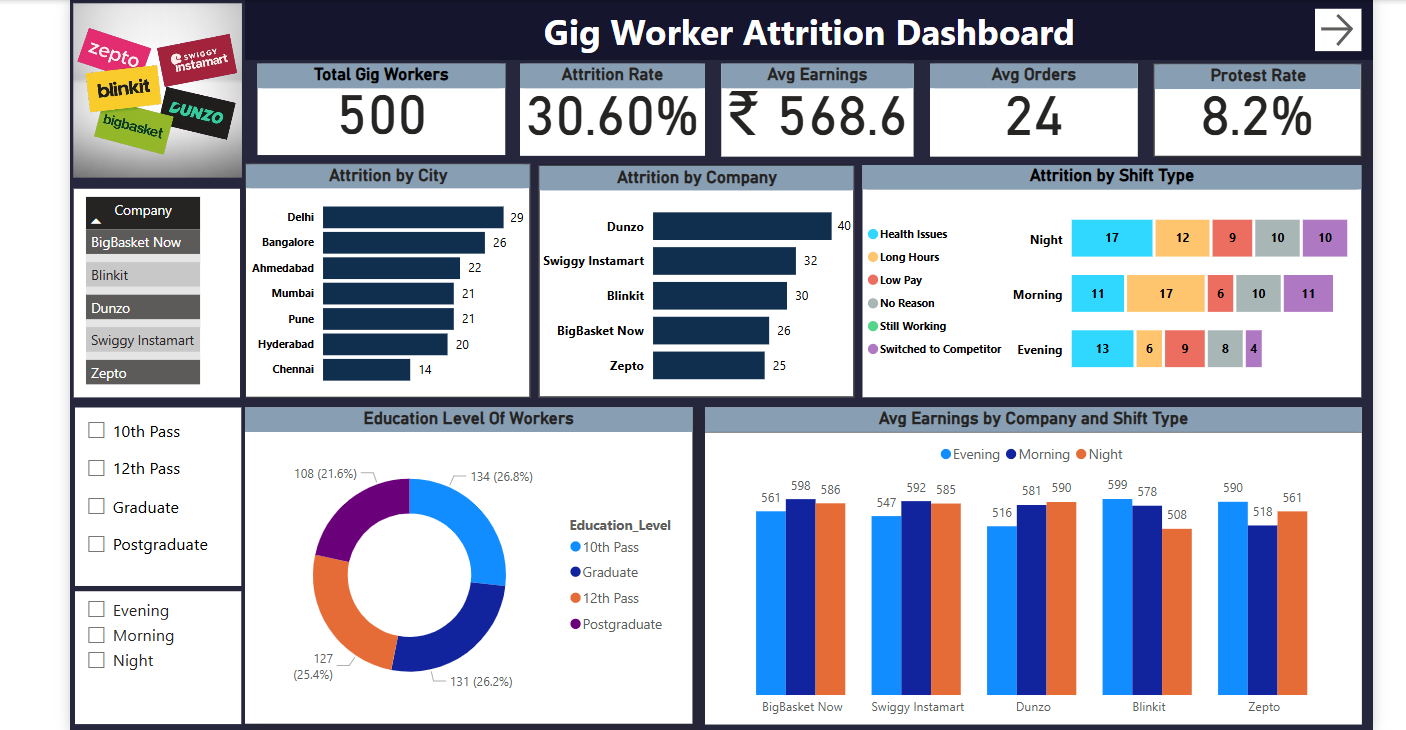

The dashboard page shown, as its layout file describes it:
{"tool":"powerbi","page":{"name":"Gig Worker Attrition Overview","canvas":[1280,720],"ordinal":0},"visuals":[{"type":"shape","box":[171.8,0,1108,58.9],"z":0},{"type":"card","title":"Total Count","fields":{"Values":["gig_worker_data.Total_Workers"]},"box":[188.5,596.2,203.8,91],"z":1000},{"type":"card","title":"Attrition Rate","fields":{"Values":["gig_worker_data.Attrition_Rate"]},"box":[441.7,62.6,181.6,90.8],"z":2000},{"type":"card","title":"Avg Earnings","fields":{"Values":["gig_worker_data.Avg_Earnings"]},"box":[639.7,62.8,188.5,91],"z":3000},{"type":"card","title":"Avg Orders","fields":{"Values":["gig_worker_data.Avg_Orders_Delivered"]},"box":[843.6,62.8,203.8,91],"z":4000},{"type":"card","title":" Protest Rate","fields":{"Values":["gig_worker_data.Protest_Rate"]},"box":[1064.1,62.8,203.8,91],"z":5000},{"type":"clusteredBarChart","title":"Attrition by City","fields":{"Category":["gig_worker_data.City"],"Y":["gig_worker_data.Attrition_count"]},"box":[171.8,160.7,279.8,229.4],"z":6000},{"type":"clusteredBarChart","title":"Attrition by Company","fields":{"Category":["gig_worker_data.Company"],"Y":["gig_worker_data.Attrition_count"]},"box":[460.1,162,309.2,228.2],"z":7000},{"type":"barChart","title":"Attrition by Shift Type","fields":{"Category":["gig_worker_data.Shift_Type"],"Y":["Sum(gig_worker_data.Attrition_flag)"],"Series":["gig_worker_data.Attrition_reason"]},"box":[778.2,161.5,489.7,228.2],"z":8000},{"type":"donutChart","title":"Education Level Of Workers","fields":{"Y":["gig_worker_data.Total_Workers"],"Category":["gig_worker_data.Education_Level"]},"box":[171.8,400,439.3,310.4],"z":9000},{"type":"clusteredColumnChart","title":" Avg Earnings by Company and Shift Type","fields":{"Y":["gig_worker_data.Avg_Earnings"],"Category":["gig_worker_data.Company"],"Series":["gig_worker_data.Shift_Type"]},"box":[623.1,400,644.9,311.5],"z":10000},{"type":"slicer","fields":{"Values":["gig_worker_data.Shift_Type"]},"box":[4.9,580.4,163.2,130.1],"z":11000},{"type":"card","title":"Total Gig Workers","fields":{"Values":["gig_worker_data.Total_Workers"]},"box":[184.1,62.6,242.9,89.6],"z":12000},{"type":"tableEx","fields":{"Values":["gig_worker_data.Company"]},"box":[3.7,185.3,163.2,204.9],"z":13000},{"type":"slicer","fields":{"Values":["gig_worker_data.Education_Level"]},"box":[4.9,400,163.2,175.5],"z":14000},{"type":"image","box":[0,0,172,177],"z":15000},{"type":"actionButton","box":[1222.1,8.6,45.4,41.7],"z":16000}]}

Visuals, with their boxes in screenshot pixels (x1, y1, x2, y2):
shape: <bbox>240, 0, 1386, 50</bbox>
"Total Count" card: <bbox>257, 606, 468, 700</bbox>
"Attrition Rate" card: <bbox>519, 54, 707, 148</bbox>
"Avg Earnings" card: <bbox>724, 54, 919, 148</bbox>
"Avg Orders" card: <bbox>935, 54, 1146, 148</bbox>
" Protest Rate" card: <bbox>1163, 54, 1374, 148</bbox>
"Attrition by City" clusteredBarChart: <bbox>240, 155, 530, 393</bbox>
"Attrition by Company" clusteredBarChart: <bbox>538, 157, 858, 393</bbox>
"Attrition by Shift Type" barChart: <bbox>867, 156, 1374, 392</bbox>
"Education Level Of Workers" donutChart: <bbox>240, 403, 695, 724</bbox>
" Avg Earnings by Company and Shift Type" clusteredColumnChart: <bbox>707, 403, 1374, 725</bbox>
slicer - gig_worker_data.Shift_Type: <bbox>67, 590, 236, 724</bbox>
"Total Gig Workers" card: <bbox>253, 54, 504, 146</bbox>
tableEx - gig_worker_data.Company: <bbox>66, 181, 235, 393</bbox>
slicer - gig_worker_data.Education_Level: <bbox>67, 403, 236, 584</bbox>
image: <bbox>62, 0, 240, 172</bbox>
actionButton: <bbox>1327, 0, 1374, 41</bbox>
